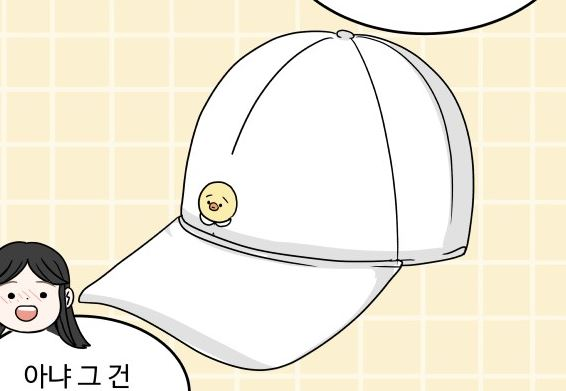hat: (78, 30, 473, 372)
